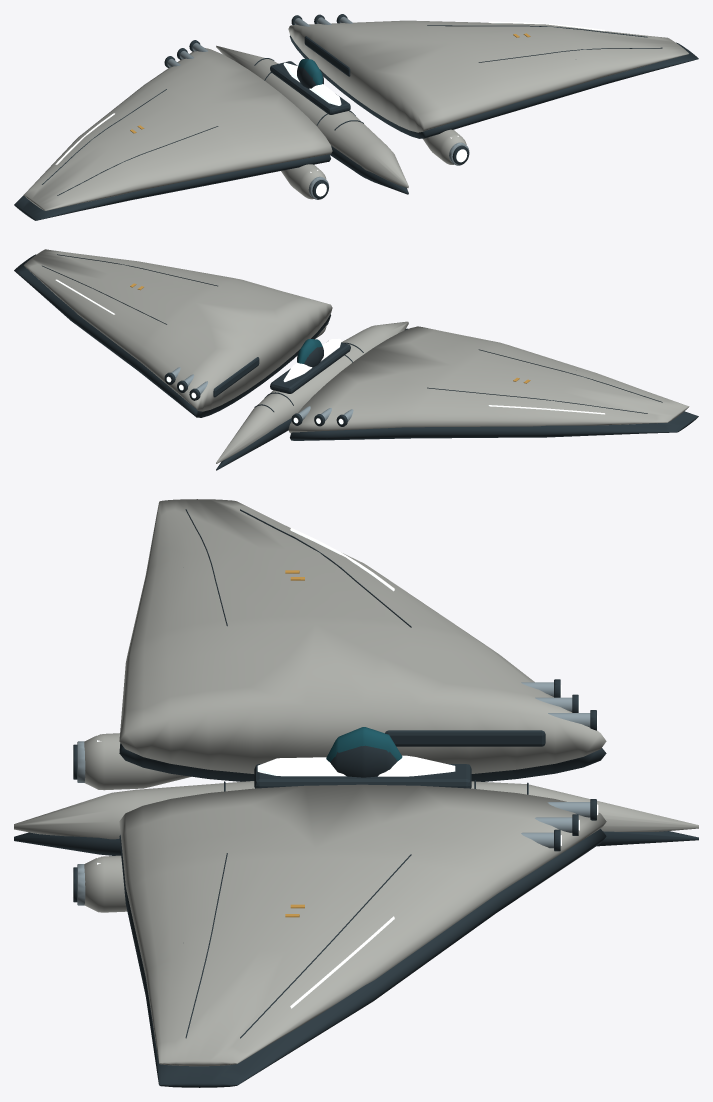
File: boss-6-p3.glb
The picture shows the model from 3 angles, top to bottom: view 1: azimuth 30°, elevation 25°; view 2: azimuth 150°, elevation 25°; view 3: azimuth 270°, elevation 25°; orthographic projection. The views are drawn at different scales.
Parts seen in each view (by area): view 1: SM_Wing_Right, SM_Wing_Left, SM_Hull, SM_Engine_Left, SM_Engine_Right, SM_Weapon_Right, SM_Weapon_Left; view 2: SM_Wing_Left, SM_Wing_Right, SM_Hull, SM_Weapon_Right, SM_Weapon_Left; view 3: SM_Wing_Right, SM_Wing_Left, SM_Hull, SM_Weapon_Left, SM_Engine_Left, SM_Engine_Right, SM_Weapon_Right.
Boxes of the visible parts, left/top/right/bottom form: SM_Wing_Right: left=288, top=20, right=698, bottom=138; SM_Wing_Left: left=14, top=48, right=332, bottom=220; SM_Hull: left=216, top=45, right=408, bottom=194; SM_Engine_Left: left=281, top=164, right=328, bottom=199; SM_Engine_Right: left=423, top=129, right=469, bottom=165; SM_Weapon_Right: left=291, top=14, right=352, bottom=76; SM_Weapon_Left: left=164, top=40, right=207, bottom=67; SM_Wing_Left: left=288, top=326, right=698, bottom=440; SM_Wing_Right: left=14, top=249, right=332, bottom=417; SM_Hull: left=216, top=321, right=408, bottom=470; SM_Weapon_Right: left=164, top=357, right=259, bottom=400; SM_Weapon_Left: left=291, top=406, right=353, bottom=426; SM_Wing_Right: left=119, top=784, right=606, bottom=1087; SM_Wing_Left: left=119, top=499, right=606, bottom=781; SM_Hull: left=14, top=727, right=698, bottom=855; SM_Weapon_Left: left=385, top=679, right=598, bottom=746; SM_Engine_Left: left=72, top=733, right=191, bottom=790; SM_Engine_Right: left=72, top=855, right=127, bottom=912; SM_Weapon_Right: left=521, top=799, right=598, bottom=851.
Bounding box in the file's own units: 20.79 × 2.09 × 10.4.
